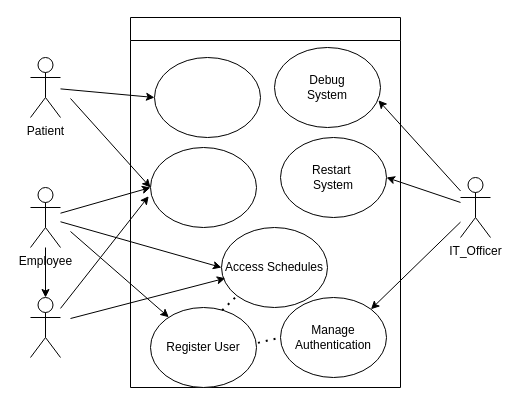
This 519x405 diagram has some shape labels left out. The shapes that lost their labels are listed below. From the top down, each one's box as (x1, y1, x2, y2) in pixels, then its label:
(154, 56, 260, 138): Book/Cancel Appointments
(150, 146, 256, 228): Generate Reports
(130, 16, 400, 388): Hospital Management System
(30, 296, 60, 358): Contractor
